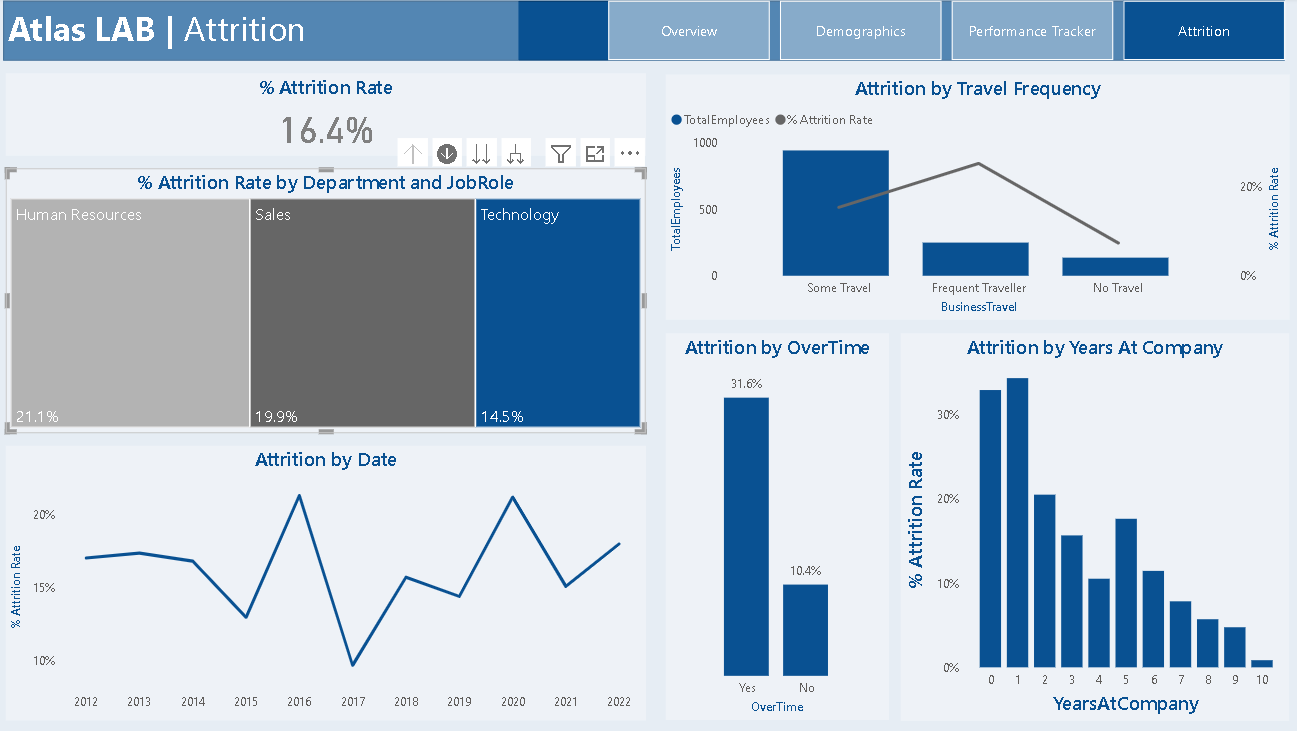

What the dashboard file says about the page in this screenshot:
{"tool":"powerbi","page":{"name":"Attrition","canvas":[1280,720],"ordinal":3},"visuals":[{"type":"card","title":"% Attrition Rate","fields":{"Values":["_Measures.% Attrition Rate"]},"box":[13.3,74.8,626.1,80.8],"z":0},{"type":"lineChart","title":"Attrition by Date","fields":{"Category":["DimDate.Date.Variation.Date Hierarchy.Year","DimDate.Date.Variation.Date Hierarchy.Quarter","DimDate.Date.Variation.Date Hierarchy.Month","DimDate.Date.Variation.Date Hierarchy.Day"],"Y":["_Measures.% Attrition Rate Date"]},"box":[13.3,439.1,626.1,269],"z":1000},{"type":"lineStackedColumnComboChart","title":"Attrition by Travel Frequency","fields":{"Category":["DimEmployee.BusinessTravel"],"Y":["_Measures.TotalEmployees"],"Y2":["_Measures.% Attrition Rate"]},"box":[658.7,75.7,610.5,240.1],"z":2000},{"type":"clusteredColumnChart","title":"Attrition by Years At Company","fields":{"Y":["_Measures.% Attrition Rate"],"Category":["DimEmployee.YearsAtCompany"]},"box":[889.1,329.4,380,378.8],"z":3000},{"type":"clusteredColumnChart","title":"Attrition by OverTime","fields":{"Category":["DimEmployee.OverTime"],"Y":["_Measures.% Attrition Rate"]},"box":[659,329.5,218.5,378.3],"z":4000},{"type":"treemap","title":"% Attrition Rate by Department and JobRole","fields":{"Group":["DimEmployee.Department","DimEmployee.JobRole"],"Values":["_Measures.% Attrition Rate"]},"box":[13.4,168,626.1,258.7],"z":5000},{"type":"shape","box":[11.5,3.7,1253.4,58.7],"z":6000},{"type":"textbox","box":[11.2,3.8,504,58.8],"z":7000},{"type":"pageNavigator","box":[602.4,4,663.1,58],"z":8000}]}

Visuals, with their boxes in screenshot pixels (x1, y1, x2, y2), scaled from the page's 1280x720 canvas onto the 1297x731 screenshot:
"% Attrition Rate" card: bbox(13, 76, 648, 158)
"Attrition by Date" lineChart: bbox(13, 446, 648, 719)
"Attrition by Travel Frequency" lineStackedColumnComboChart: bbox(667, 77, 1286, 321)
"Attrition by Years At Company" clusteredColumnChart: bbox(901, 334, 1286, 719)
"Attrition by OverTime" clusteredColumnChart: bbox(668, 335, 889, 719)
"% Attrition Rate by Department and JobRole" treemap: bbox(14, 171, 648, 433)
shape: bbox(12, 4, 1282, 63)
textbox: bbox(11, 4, 522, 64)
pageNavigator: bbox(610, 4, 1282, 63)
